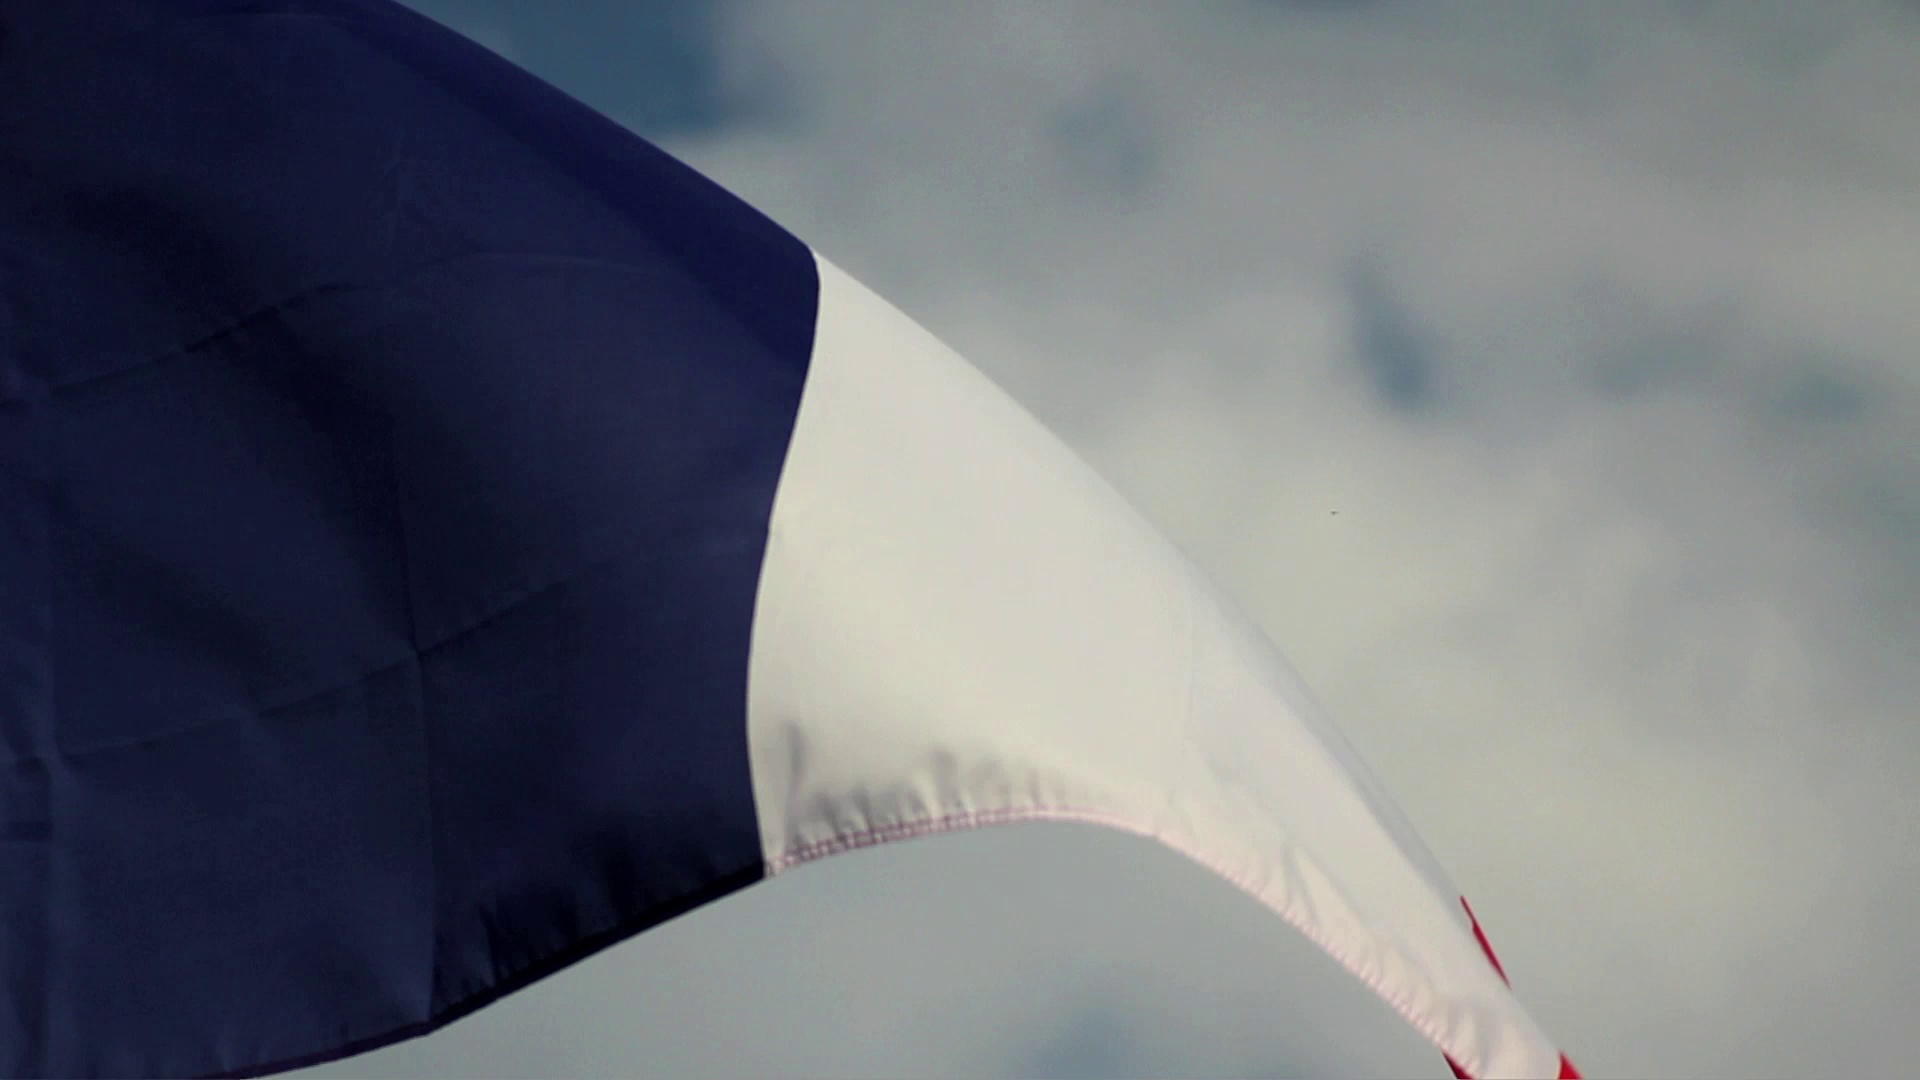French Flag: (1, 1, 1567, 1080)
